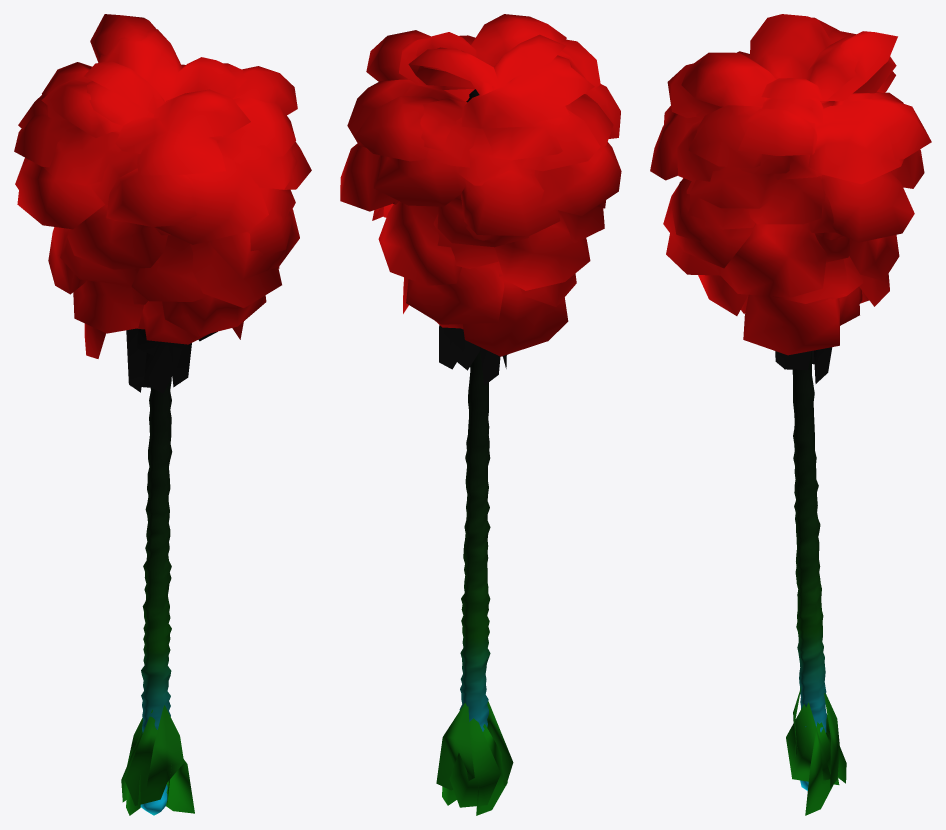
File: Palm6.fbx
3 views of the same model, side by side, from view 1: azimuth 30°, elevation 25°; view 2: azimuth 150°, elevation 25°; view 3: azimuth 270°, elevation 25° (orthographic). The views are drawn at different scales.
Parts seen in each view (by area): view 1: Palm6_LOD0; view 2: Palm6_LOD0; view 3: Palm6_LOD0.
Part boxes in pixels (<box>): Palm6_LOD0: <box>14,14,311,815</box>; Palm6_LOD0: <box>340,14,621,815</box>; Palm6_LOD0: <box>650,14,931,815</box>.
Size of what is drawn, in the model's own units: 486 by 1449 by 484.
